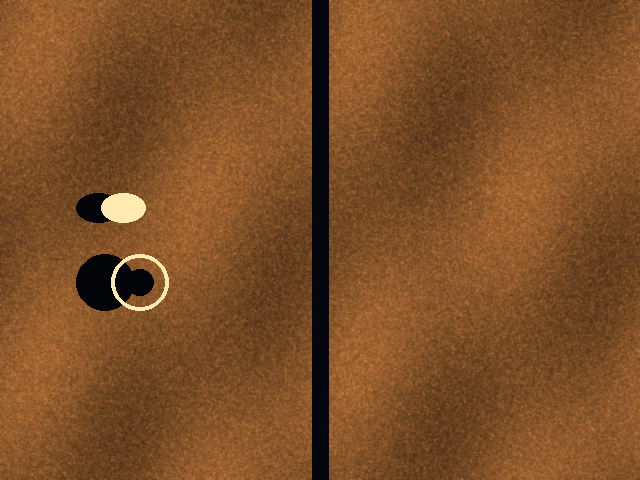Bottle: (101, 193, 145, 222)
Tire: (111, 254, 168, 310)
